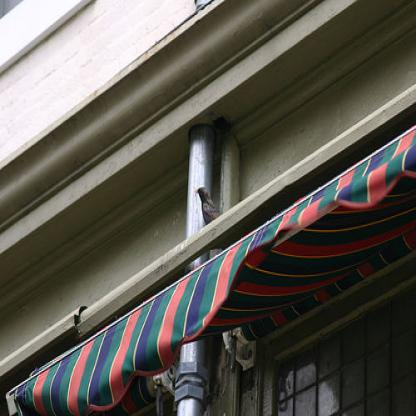bird: (195, 185, 219, 225)
